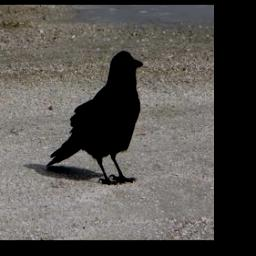Crow: (45, 49, 147, 186)
